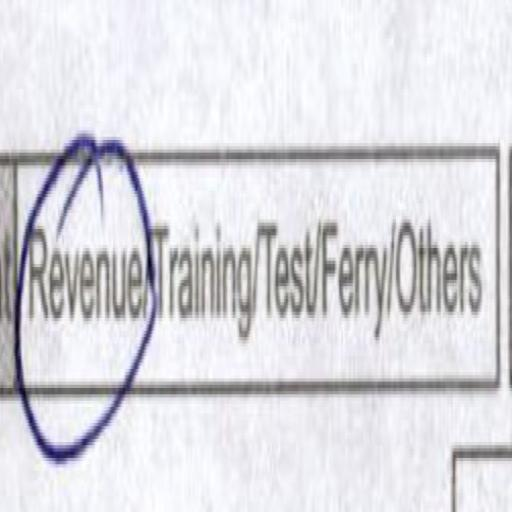check: (21, 126, 147, 447)
